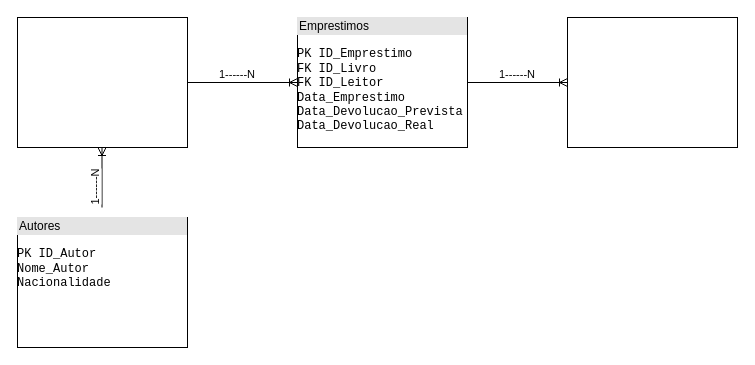
Image size: 755x365. Some labels were removed from this diagram. The shapes that lost their labels are listed below. From the top down, each one's box as (x1, y1, x2, y2) in pixels, then its label:
(16, 16, 188, 148): Livros PK ID_Livro Titulo Ano_Publicacao ISBN Total_Copias Copias_Disponiveis
(566, 16, 738, 148): Leitores PK ID_Leitor Nome_Leitor Email Telefone
